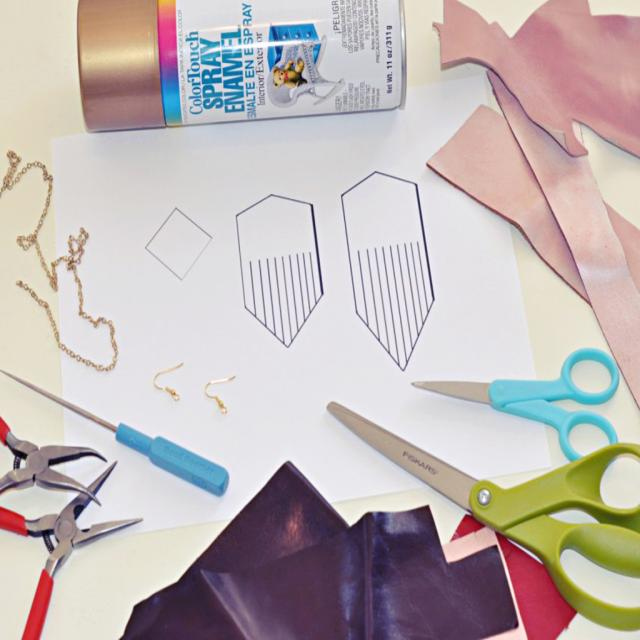scissors: (326, 400, 640, 632), (410, 347, 619, 462)
